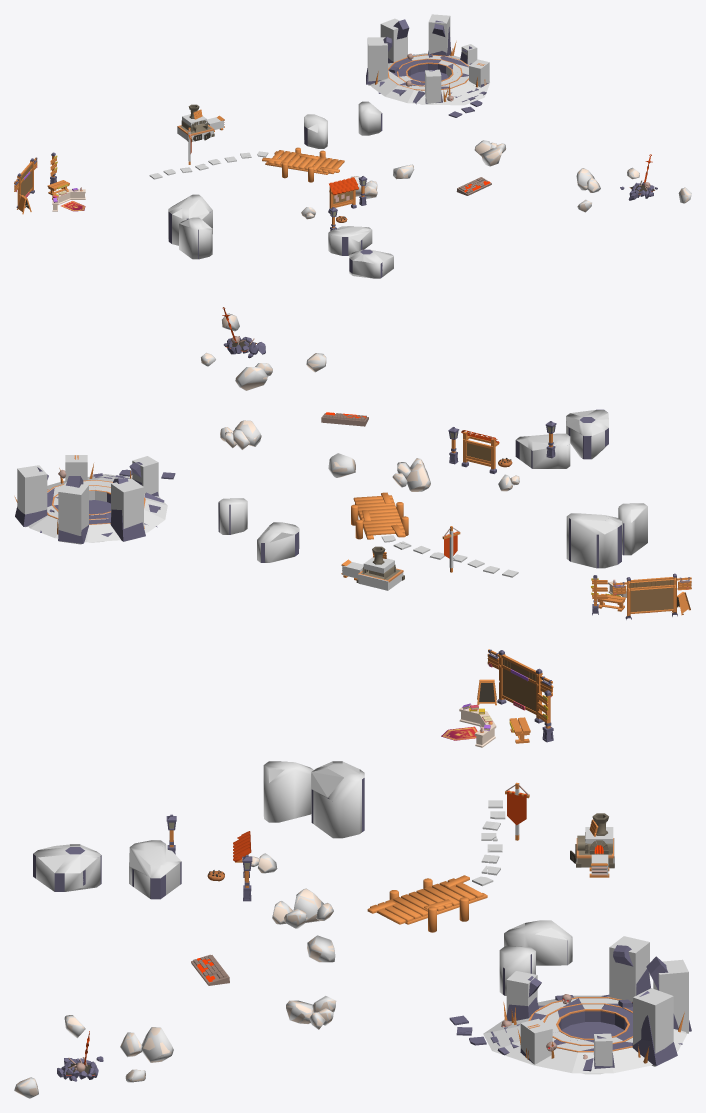
Rendered from folio-2025.gltf.
3 views of the same model, one above another, from view 1: azimuth 30°, elevation 25°; view 2: azimuth 150°, elevation 25°; view 3: azimuth 270°, elevation 25° (orthographic). The views are drawn at different scales.
Visible parts, largest first — view 1: trimesh.001, Cube.139, hull.016, Cylinder.021, hull.015, hull.011, hull.012, Cube.165, Cube.172, hull.014, Cube.146, hull.013 (+6 smaller); view 2: hull.015, trimesh.001, Cube.139, Cube.172, hull.012, Cube.164, hull.011, Cube.146, hull.014, hull.016, Cube.165, Cylinder.022 (+12 smaller); view 3: trimesh.001, hull.015, Cube.139, hull.016, Cube.172, Cylinder.021, hull.011, hull.014, hull.012, Cube.146, Cube.165, Cube.164 (+11 smaller).
Part boxes in pixels (x1=…): trimesh.001: x1=371, y1=53, x2=489, y2=105; Cube.139: x1=262, y1=147, x2=344, y2=182; hull.016: x1=179, y1=217, x2=212, y2=259; Cylinder.021: x1=388, y1=56, x2=486, y2=102; hull.015: x1=168, y1=194, x2=212, y2=245; hull.011: x1=349, y1=249, x2=393, y2=278; hull.012: x1=328, y1=226, x2=372, y2=255; Cube.165: x1=367, y1=37, x2=387, y2=85; Cube.172: x1=366, y1=19, x2=472, y2=103; hull.014: x1=304, y1=114, x2=327, y2=148; Cube.146: x1=428, y1=14, x2=450, y2=54; hull.013: x1=358, y1=101, x2=381, y2=135; hull.015: x1=566, y1=513, x2=621, y2=568; trimesh.001: x1=28, y1=474, x2=167, y2=542; Cube.139: x1=351, y1=492, x2=408, y2=539; Cube.172: x1=15, y1=462, x2=158, y2=543; hull.012: x1=516, y1=433, x2=570, y2=468; Cube.164: x1=58, y1=482, x2=88, y2=544; hull.011: x1=566, y1=410, x2=608, y2=459; Cube.146: x1=17, y1=465, x2=47, y2=527; hull.014: x1=257, y1=522, x2=299, y2=562; hull.016: x1=618, y1=503, x2=647, y2=555; Cube.165: x1=111, y1=478, x2=143, y2=541; Cylinder.022: x1=218, y1=409, x2=624, y2=568; trimesh.001: x1=483, y1=995, x2=686, y2=1074; hull.015: x1=311, y1=761, x2=364, y2=838; Cube.139: x1=367, y1=875, x2=487, y2=932; hull.016: x1=263, y1=761, x2=313, y2=822; Cube.172: x1=506, y1=945, x2=691, y2=1068; Cylinder.021: x1=490, y1=998, x2=632, y2=1055; hull.011: x1=33, y1=844, x2=100, y2=891; hull.014: x1=504, y1=920, x2=572, y2=965; hull.012: x1=129, y1=840, x2=181, y2=898; Cube.146: x1=633, y1=988, x2=673, y2=1066; Cube.165: x1=609, y1=936, x2=649, y2=1001; Cube.164: x1=653, y1=959, x2=688, y2=1033.
Bounding box in the file's own units: 69.18 × 8.2 × 50.04.
23 materials, 2 textured.
